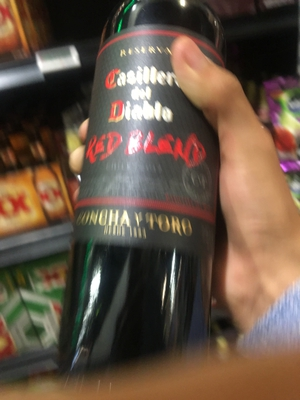casillero del diablo red blend: (67, 13, 228, 377)
